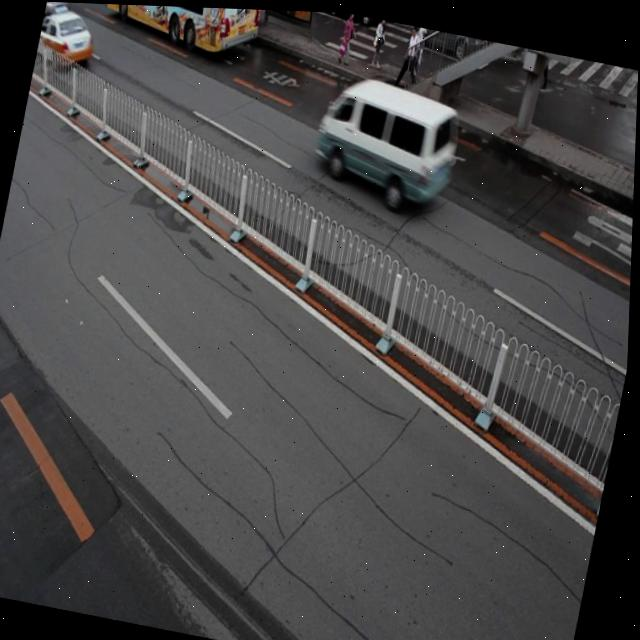car: (35, 3, 102, 73)
truck: (307, 67, 466, 210)
van: (96, 3, 264, 59)
